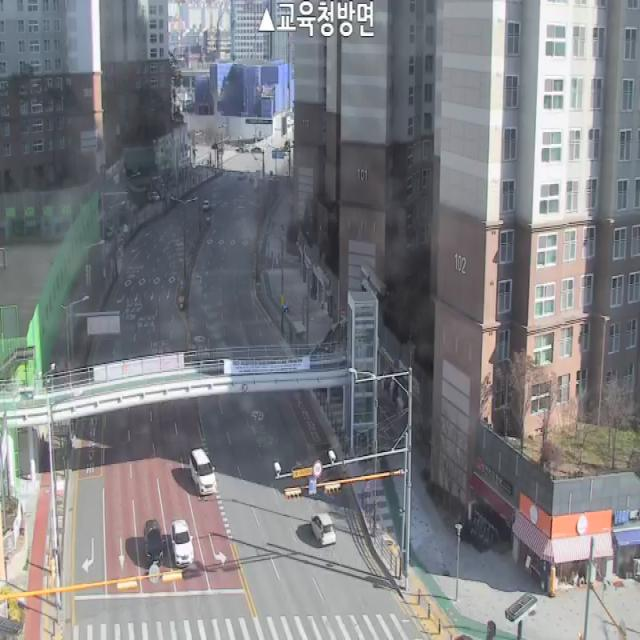Car: (190, 448, 216, 496), (171, 520, 194, 566), (144, 520, 165, 566), (310, 513, 336, 547)
